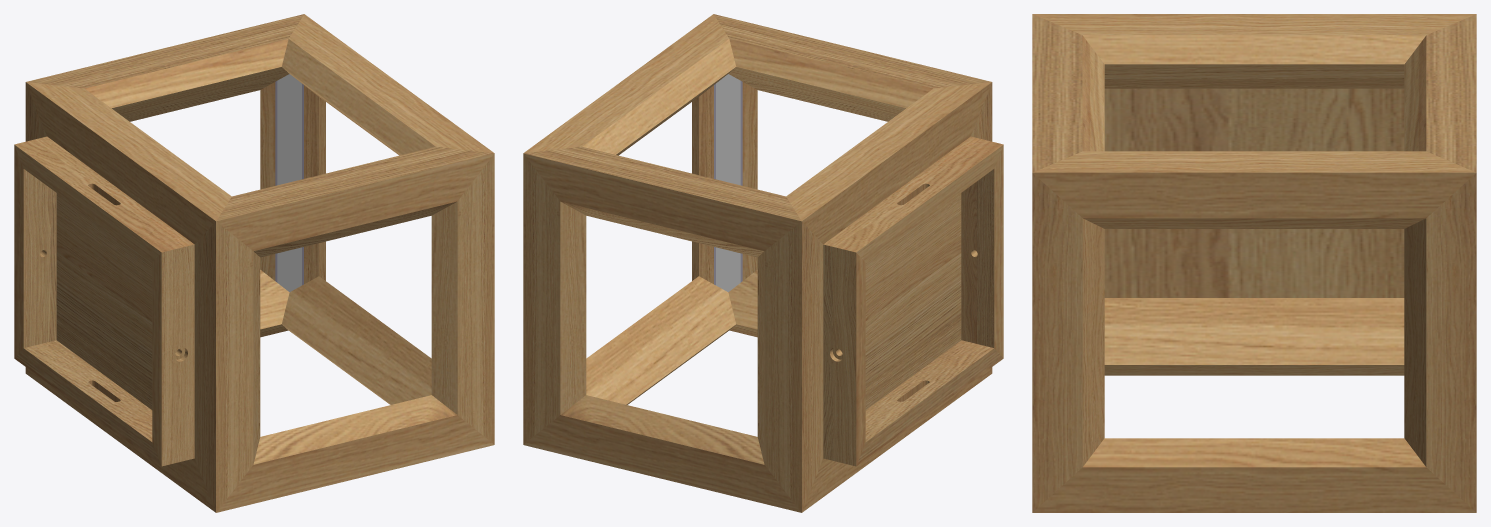
The picture shows the model from 3 angles, left to right: view 1: azimuth 30°, elevation 25°; view 2: azimuth 150°, elevation 25°; view 3: azimuth 270°, elevation 25°; orthographic projection. The views are drawn at different scales.
Visible parts, largest first — view 1: PROTO.003_Cube.004, Cube.005_Cube.006, PROTO.001_Cube.003, PROTO.006_Cube.005, Cube.002, Cube.001; view 2: PROTO.003_Cube.004, Cube.005_Cube.006, PROTO.001_Cube.003, PROTO.006_Cube.005, Cube.002, Cube.001; view 3: PROTO.006_Cube.005, PROTO.001_Cube.003, Cube.005_Cube.006, PROTO.003_Cube.004.
Part boxes in pixels (x1,y1,x2,y2): PROTO.003_Cube.004: (26, 14, 494, 512); Cube.005_Cube.006: (14, 136, 194, 466); PROTO.001_Cube.003: (25, 82, 494, 512); PROTO.006_Cube.005: (26, 14, 494, 512); Cube.002: (277, 74, 301, 292); Cube.001: (275, 81, 303, 285); PROTO.003_Cube.004: (523, 14, 991, 512); Cube.005_Cube.006: (823, 136, 1003, 466); PROTO.001_Cube.003: (523, 82, 992, 512); PROTO.006_Cube.005: (523, 14, 991, 512); Cube.002: (716, 74, 740, 292); Cube.001: (714, 81, 742, 285); PROTO.006_Cube.005: (1032, 14, 1476, 512); PROTO.001_Cube.003: (1032, 173, 1476, 512); Cube.005_Cube.006: (1104, 88, 1404, 297); PROTO.003_Cube.004: (1032, 14, 1476, 172).
Bounding box in the file's own units: 18.9 × 16.9 × 20.
